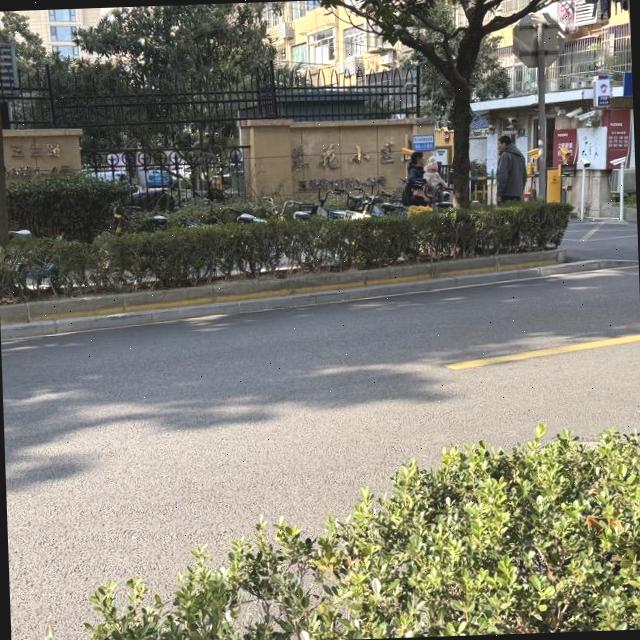curb: (0, 260, 637, 346), (0, 249, 566, 323)
